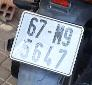4: (42, 42, 55, 67)
5: (13, 37, 34, 61)
6: (30, 39, 45, 64), (25, 14, 39, 37)
7: (52, 46, 69, 73), (34, 17, 50, 41)
9: (61, 24, 75, 48)
M: (50, 22, 68, 45)
